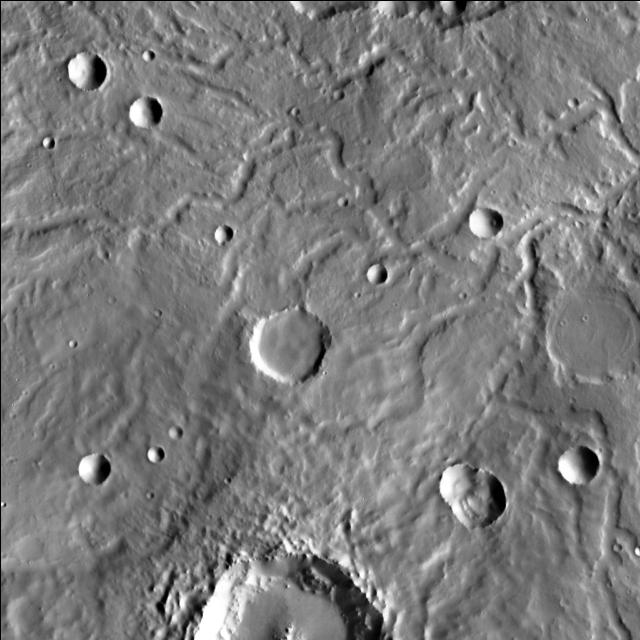crater: (543, 284, 640, 386), (249, 308, 326, 384), (230, 253, 302, 326), (446, 471, 504, 529), (557, 446, 597, 486), (436, 465, 476, 504), (66, 53, 105, 91), (6, 598, 40, 632), (127, 95, 161, 128), (76, 454, 108, 487), (468, 208, 500, 240), (15, 538, 40, 562), (439, 0, 465, 16), (366, 264, 386, 284), (212, 225, 232, 244), (146, 446, 163, 464), (166, 426, 182, 440), (40, 136, 54, 150), (141, 51, 153, 62), (540, 15, 550, 26), (566, 100, 576, 110), (331, 91, 341, 101), (558, 597, 568, 607), (631, 546, 640, 557), (611, 543, 620, 551), (338, 200, 346, 208), (290, 108, 298, 116), (514, 132, 522, 140), (457, 292, 465, 300), (152, 484, 160, 492), (66, 342, 74, 349), (361, 138, 368, 146), (506, 259, 514, 266), (160, 302, 167, 310), (114, 290, 120, 298)
